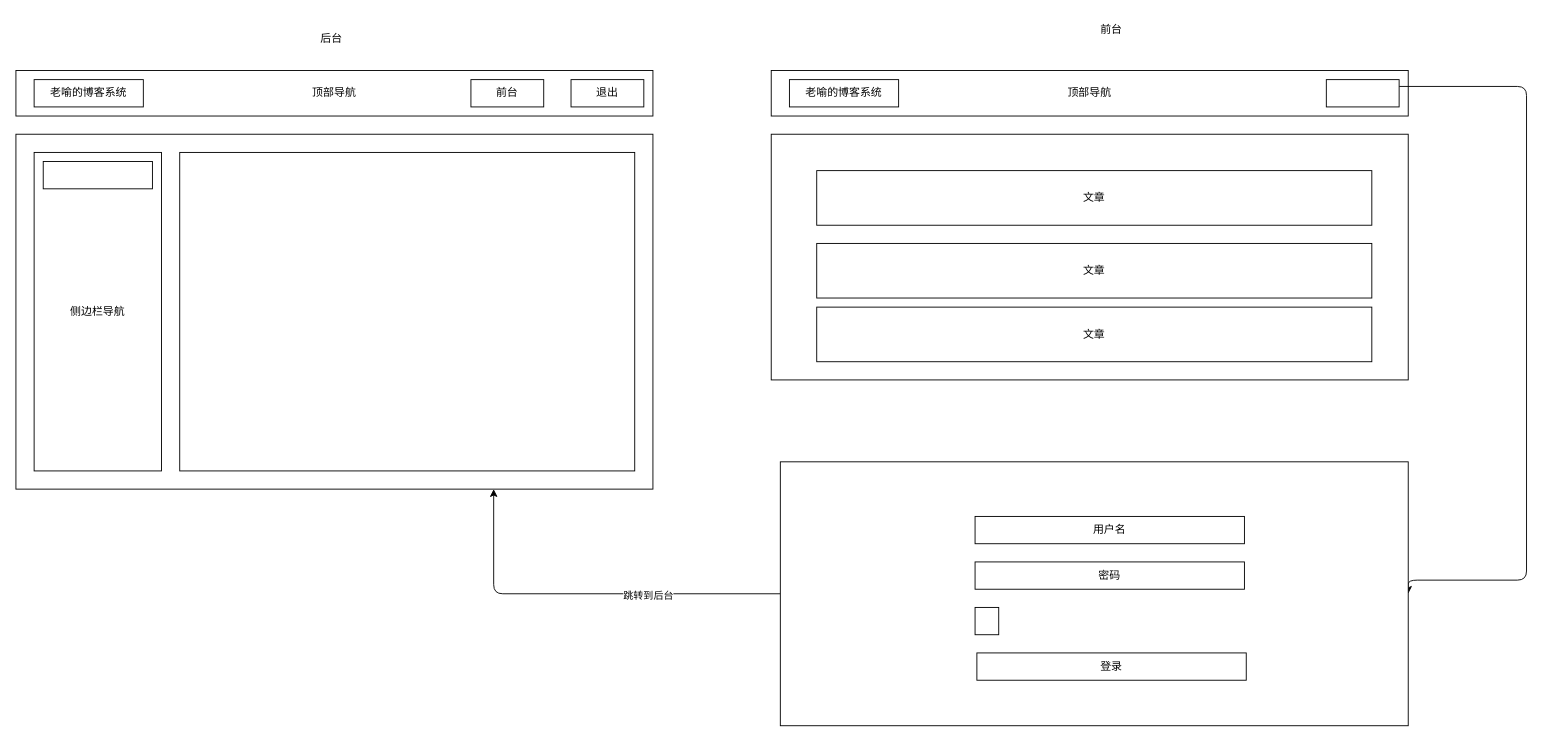
The diagram is 1550 pixels wide and 742 high, and some of its shapes have lost their labels. Here are the shapes that lost their labels. From the top down, the centre of each, then its label:
point (1362, 93): 登录/后台
point (97, 175): 文章管理
point (407, 311): 业务内容区
point (986, 621): 记住
